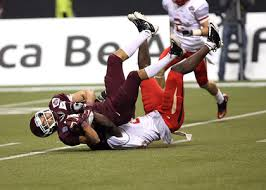fall: (33, 10, 174, 153)
